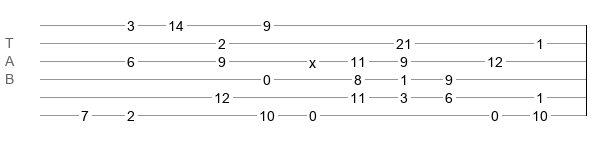0: (263, 72, 271, 82), (309, 108, 317, 118), (491, 108, 499, 118)
1: (400, 72, 408, 82), (536, 90, 544, 100), (536, 36, 544, 46)
10: (259, 108, 275, 118), (532, 108, 548, 118)
11: (350, 90, 366, 100), (350, 54, 366, 64)
12: (214, 90, 230, 100), (487, 54, 503, 64)
14: (168, 18, 184, 28)
2: (127, 108, 135, 118), (218, 36, 226, 46)
21: (396, 36, 412, 46)
3: (127, 18, 135, 28), (400, 90, 408, 100)
6: (127, 54, 135, 64), (445, 90, 453, 100)
7: (81, 108, 89, 118)
8: (354, 72, 362, 82)
9: (218, 54, 226, 64), (263, 18, 271, 28), (400, 54, 408, 64), (445, 72, 453, 82)
x: (309, 55, 316, 63)
